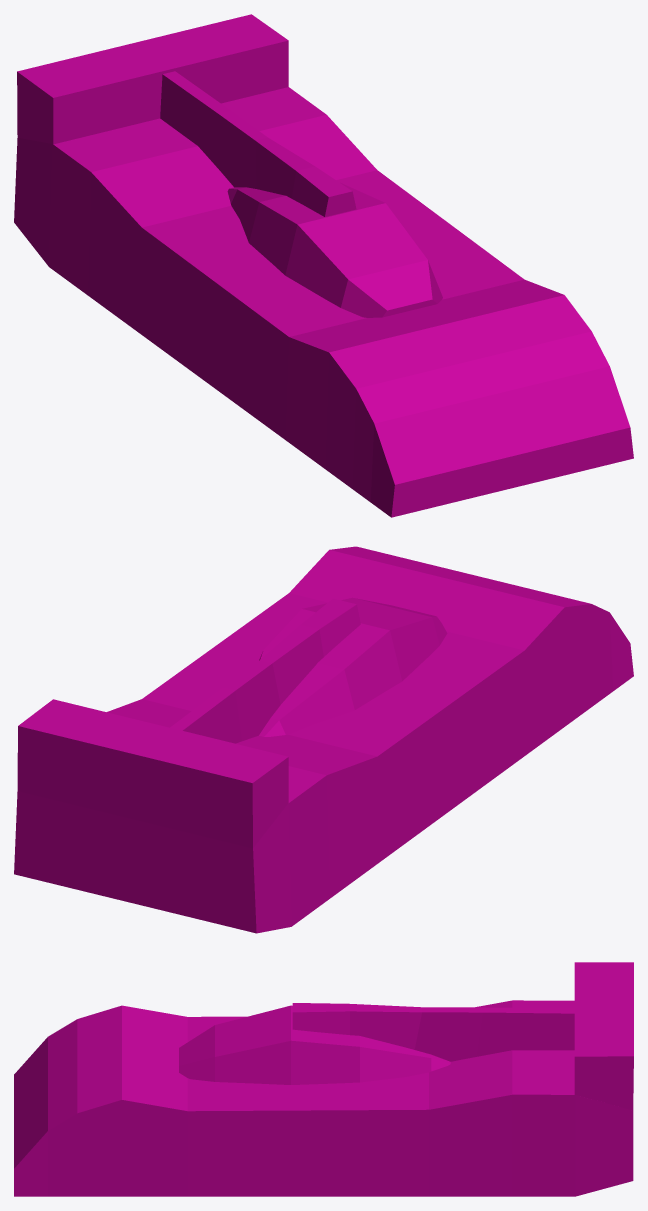
File: SM_Veh_Prototype_01_Preset_03_Collision.fbx
The picture shows the model from 3 angles, top to bottom: view 1: azimuth 30°, elevation 25°; view 2: azimuth 150°, elevation 25°; view 3: azimuth 270°, elevation 25°; orthographic projection. The views are drawn at different scales.
Parts seen in each view (by area): view 1: SM_Veh_Prototype_01_Preset_03_Collision; view 2: SM_Veh_Prototype_01_Preset_03_Collision; view 3: SM_Veh_Prototype_01_Preset_03_Collision.
Part boxes in pixels (box(x1,y1,x2,y2)): SM_Veh_Prototype_01_Preset_03_Collision: box(14, 14, 633, 517); SM_Veh_Prototype_01_Preset_03_Collision: box(14, 546, 633, 933); SM_Veh_Prototype_01_Preset_03_Collision: box(14, 962, 633, 1196).
Bounding box in the file's own units: 248 × 166 × 669.
